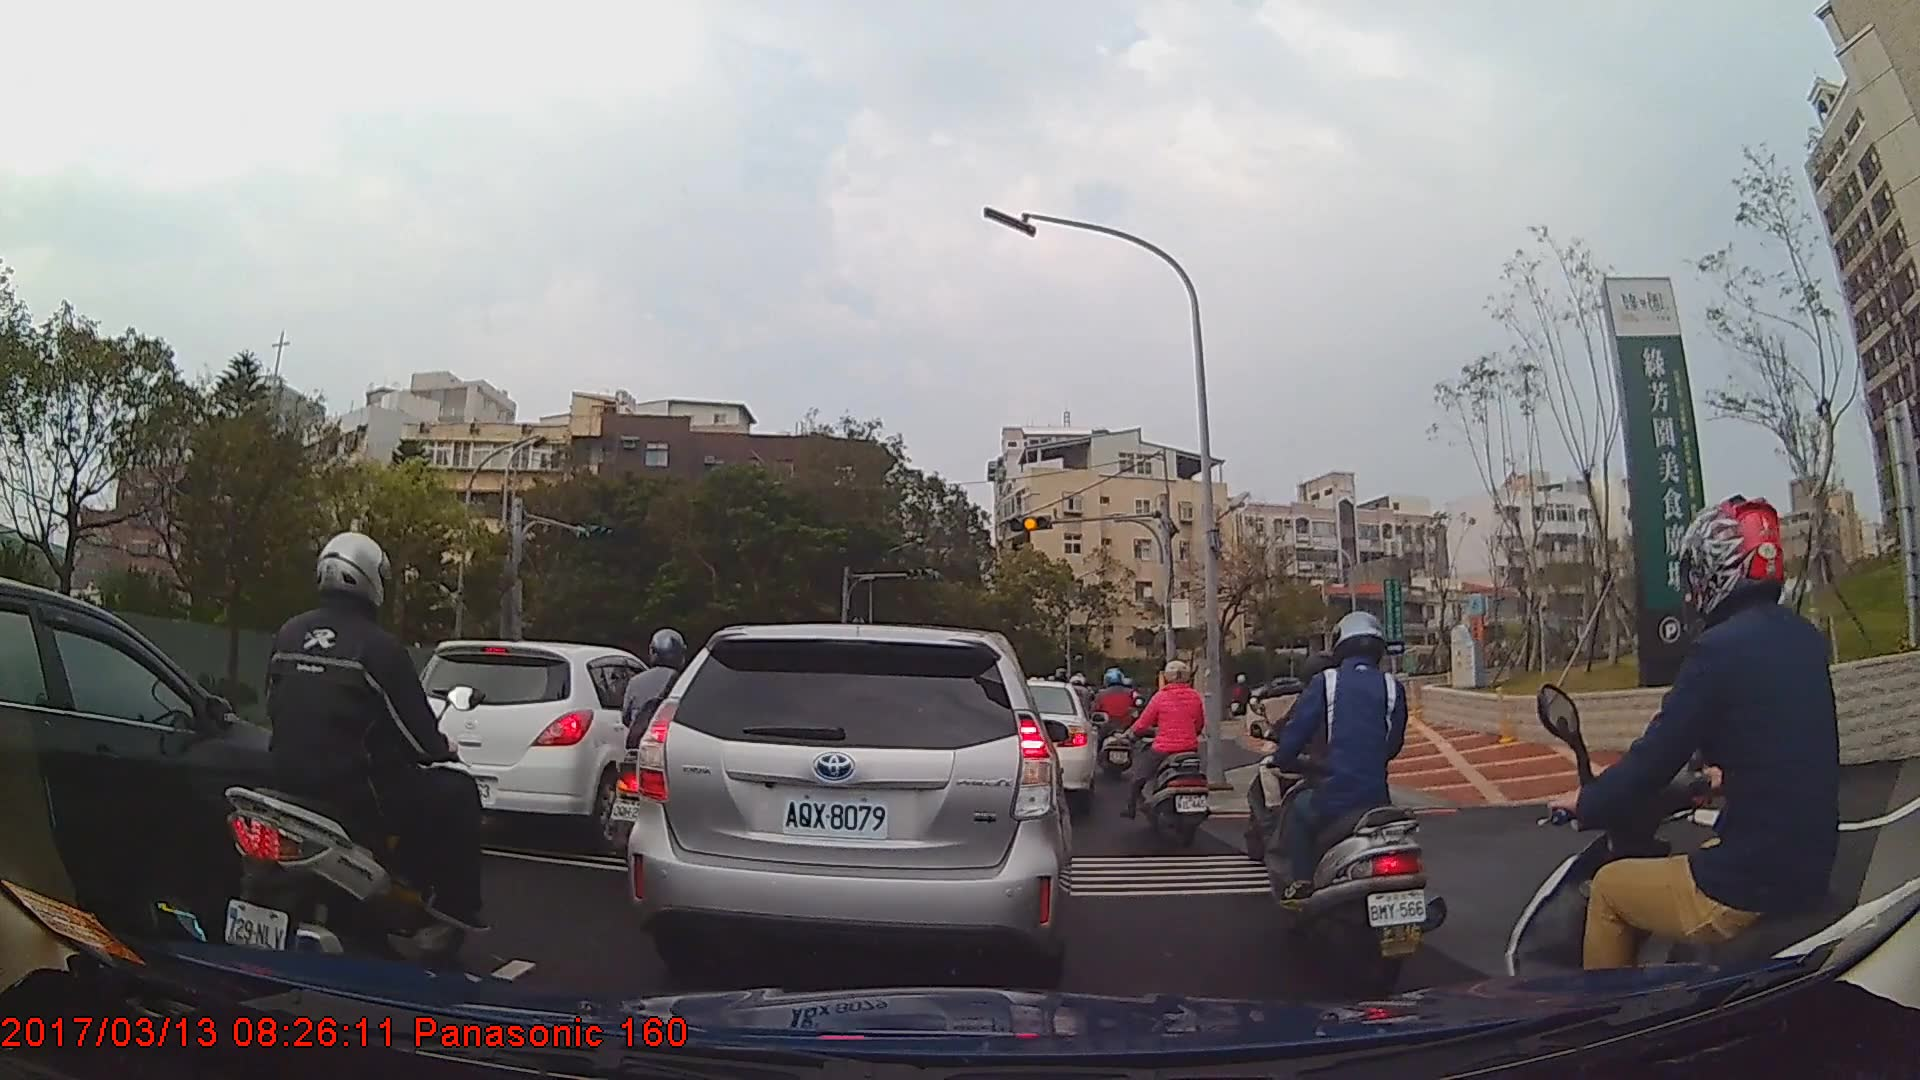rider: (1501, 495, 1920, 1080), (223, 530, 490, 1007), (1251, 611, 1438, 1002), (608, 627, 711, 878), (1136, 663, 1212, 853), (1091, 667, 1141, 778)
vehicle: (625, 623, 1072, 984), (0, 571, 349, 941), (392, 637, 669, 855), (992, 679, 1098, 807)
